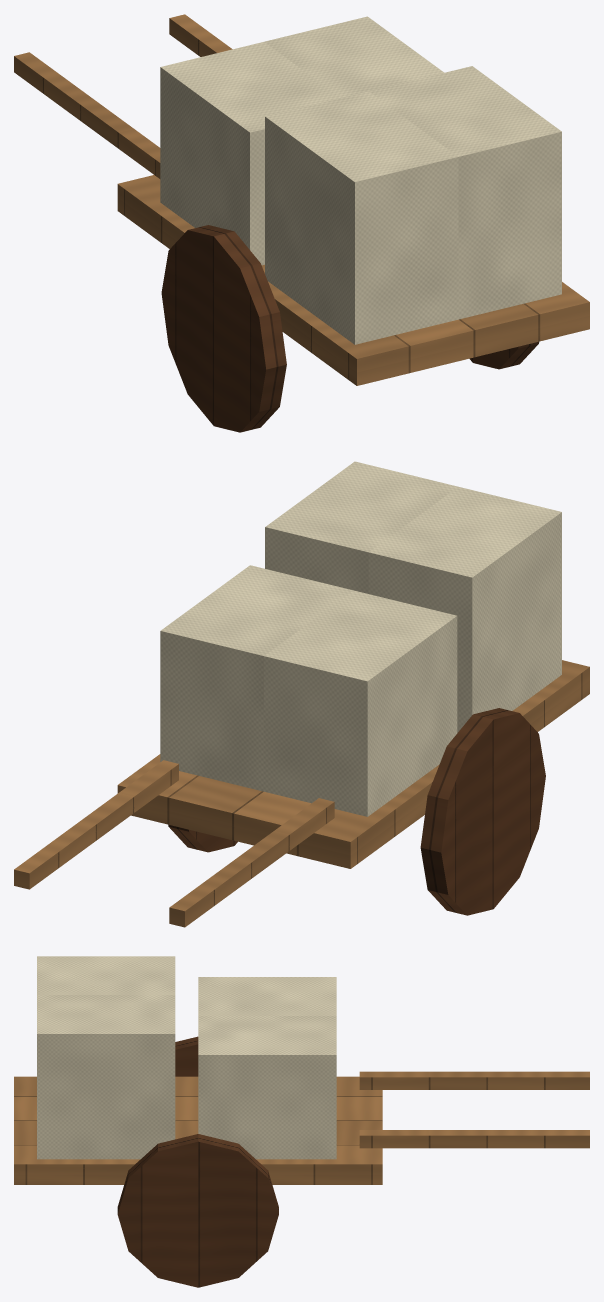
The model's file is wozek.glb.
3 views of the same model, one above another, from view 1: azimuth 30°, elevation 25°; view 2: azimuth 150°, elevation 25°; view 3: azimuth 270°, elevation 25° (orthographic). The views are drawn at different scales.
Parts seen in each view (by area): view 1: wozek; view 2: wozek; view 3: wozek.
Boxes of the visible parts, bbox=[...] form: wozek: bbox=[14, 14, 589, 432]; wozek: bbox=[14, 461, 589, 927]; wozek: bbox=[14, 956, 589, 1287].
Bounding box in the file's own units: 1.08 × 1.15 × 2.5.
Materials: 3 (3 with a texture image).
